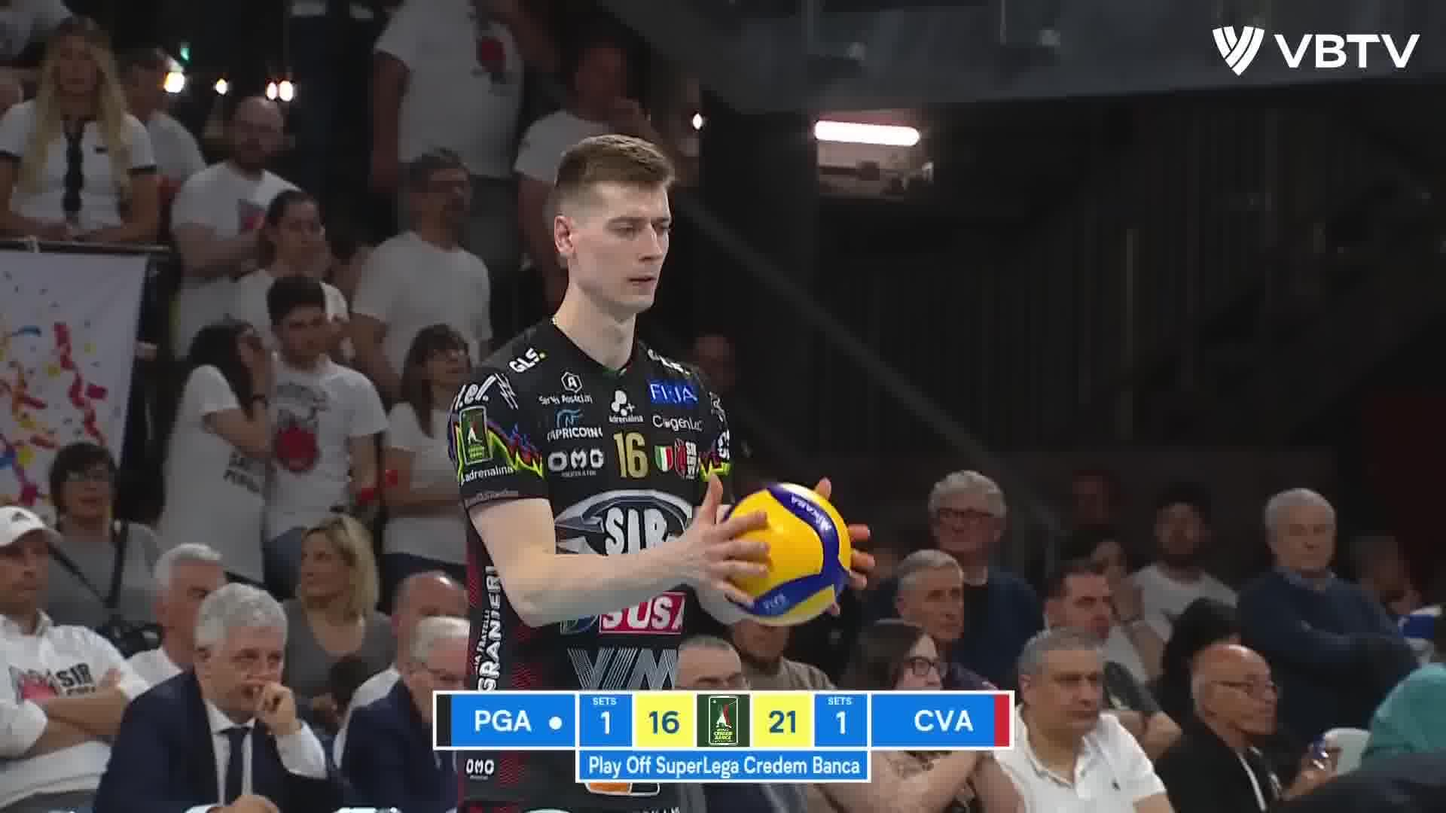balls: (701, 474, 873, 630)
